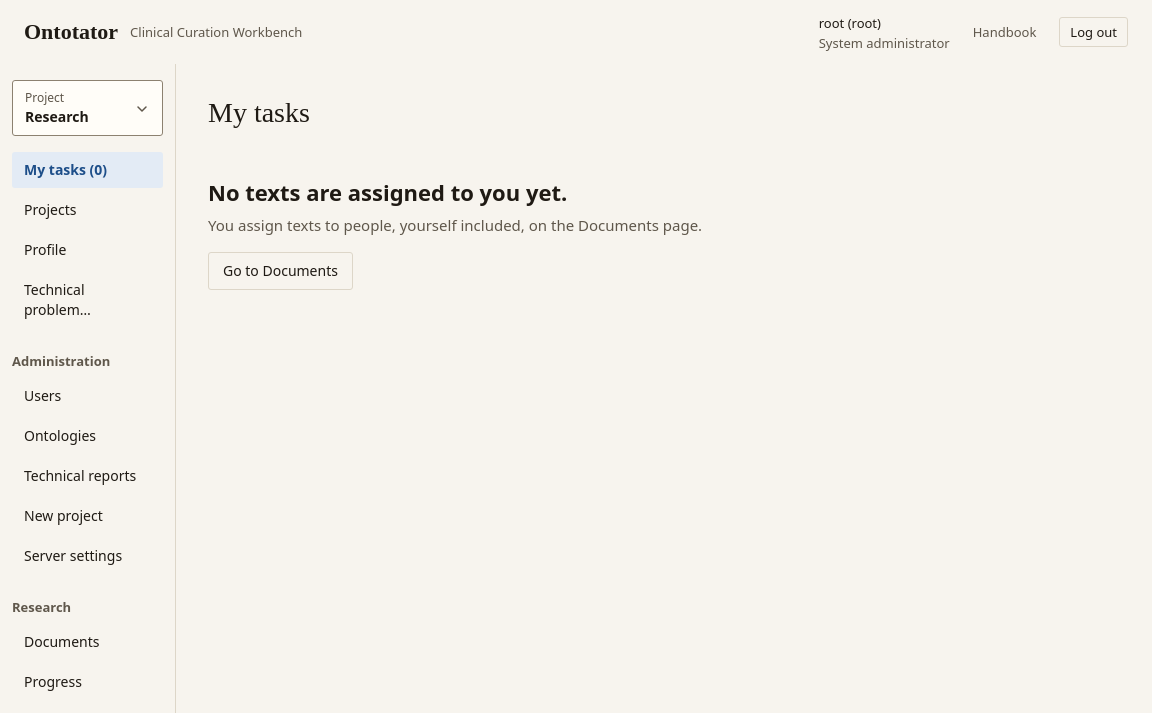
Test: loads ontology administration only on its route and follows actual pinned-project links
The image size is (1152, 713).
Check: the heading "My tasks" is shown, box 208,97 -> 310,128
Click the link "Ontologies".
click(60, 436)  # box 24,426 -> 96,445
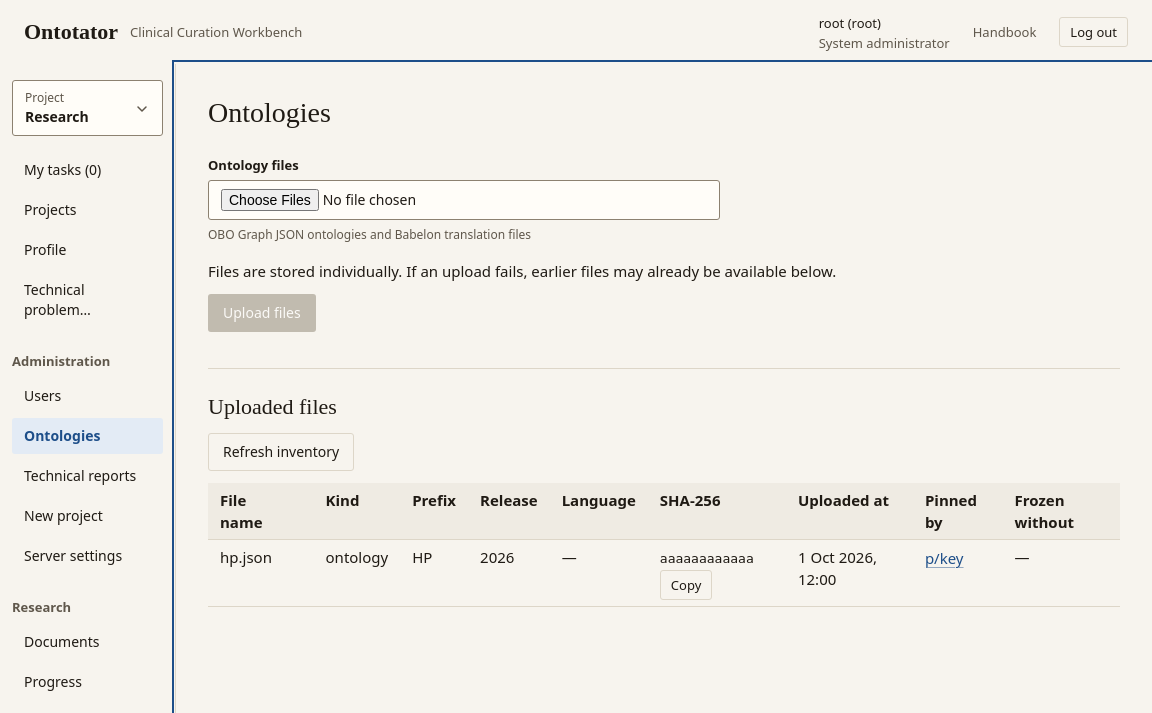
Check: the text "hp.json" is shown, box 208,540 -> 314,606
Click the link "p/key".
click(944, 558)  # box 925,546 -> 964,570
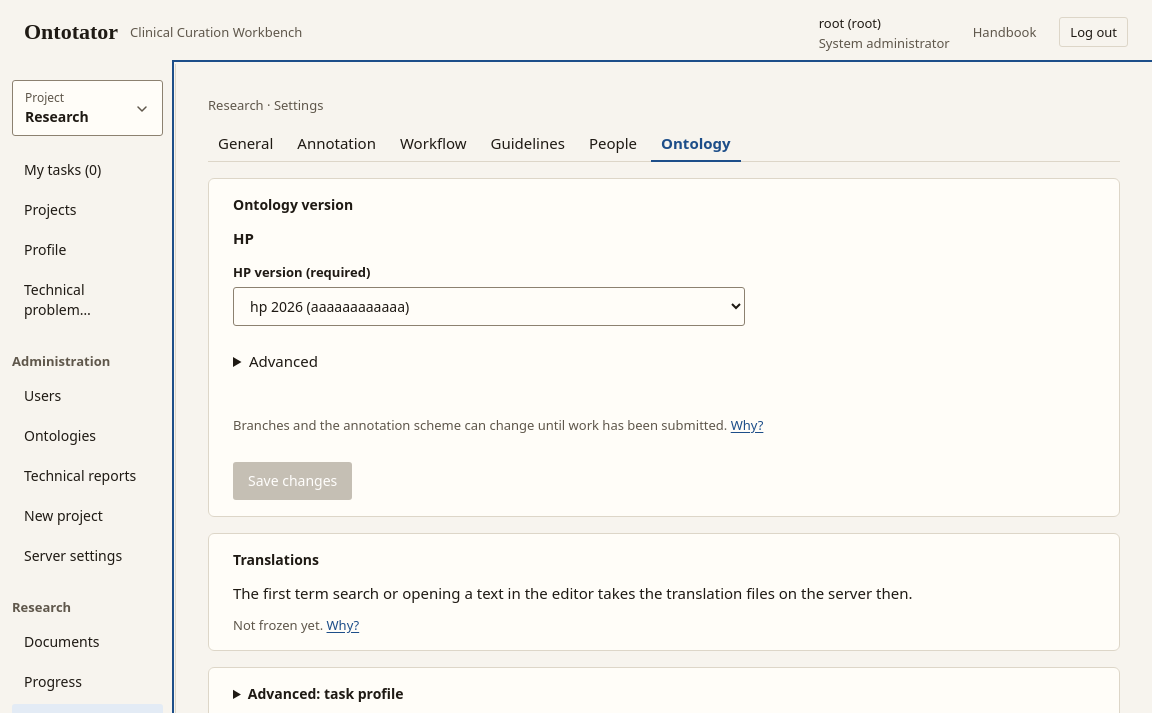
Check: the heading "Research · Settings" is shown, box 208,96 -> 323,114
